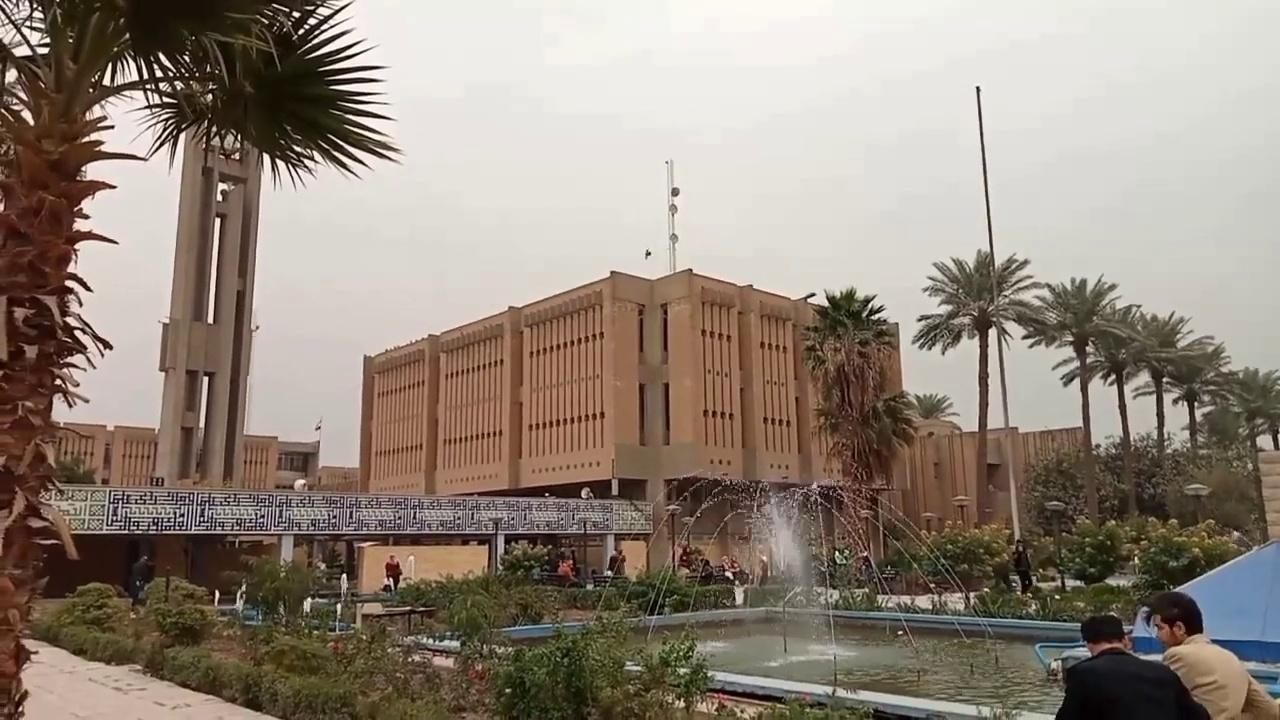car: (1033, 637, 1279, 701)
fountain: (430, 596, 1275, 718), (611, 470, 1030, 716)
person: (1144, 590, 1279, 719), (1054, 614, 1211, 719), (128, 553, 155, 608), (1011, 538, 1032, 595), (557, 554, 581, 587), (384, 554, 402, 592), (605, 548, 625, 576)
tree: (0, 0, 403, 716), (111, 0, 405, 488), (910, 247, 1278, 541), (0, 2, 148, 715), (122, 0, 405, 191), (911, 247, 1041, 531), (798, 285, 918, 580), (1019, 273, 1140, 526), (1078, 305, 1156, 518), (1119, 308, 1211, 461), (1224, 364, 1279, 543), (1163, 336, 1235, 468), (1230, 365, 1279, 452), (909, 391, 957, 420)
